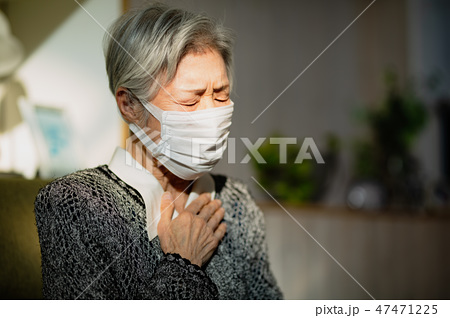mask: (154, 103, 238, 185)
